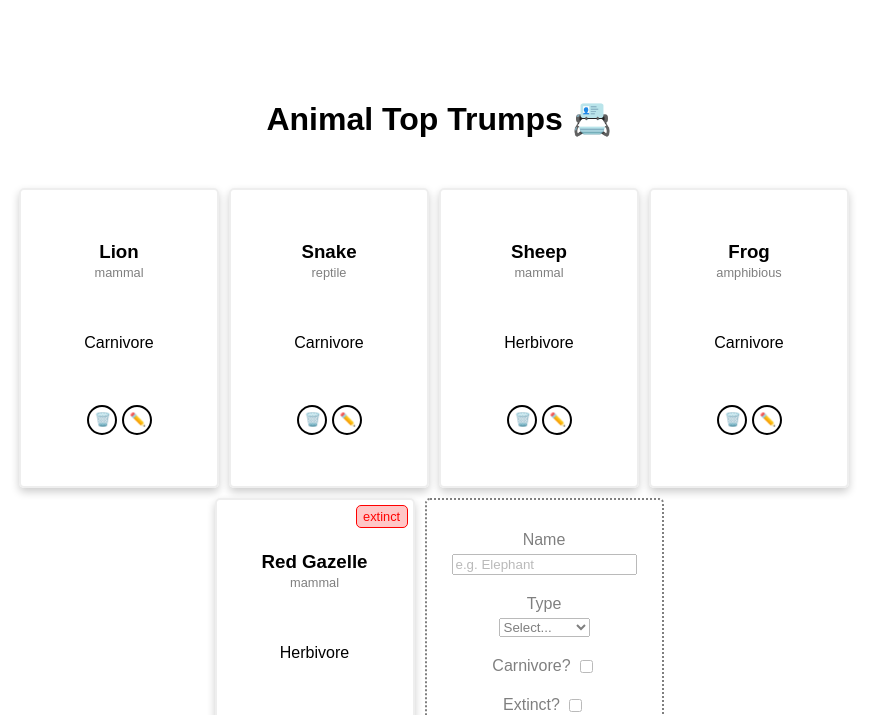
Test: Functionality › adding a card
The width and height of the screenshot is (869, 715).
Type "Zebra" into the field with id "edit-card-name" at (545, 565), box [452, 554, 637, 575]
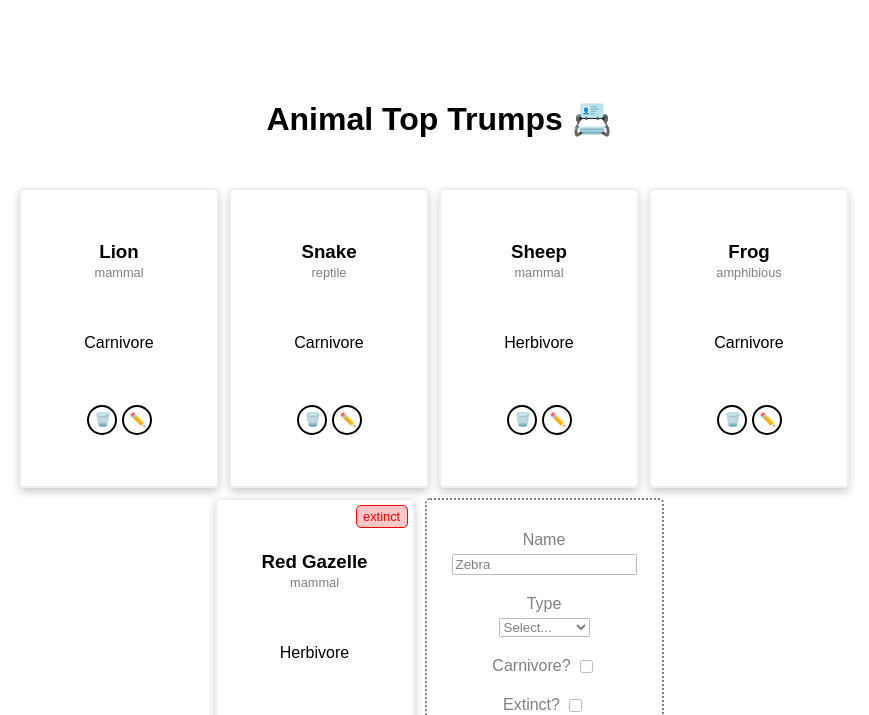
Select "mammal" in the dropdown with id "edit-card-type" at (545, 628), box [499, 618, 590, 637]
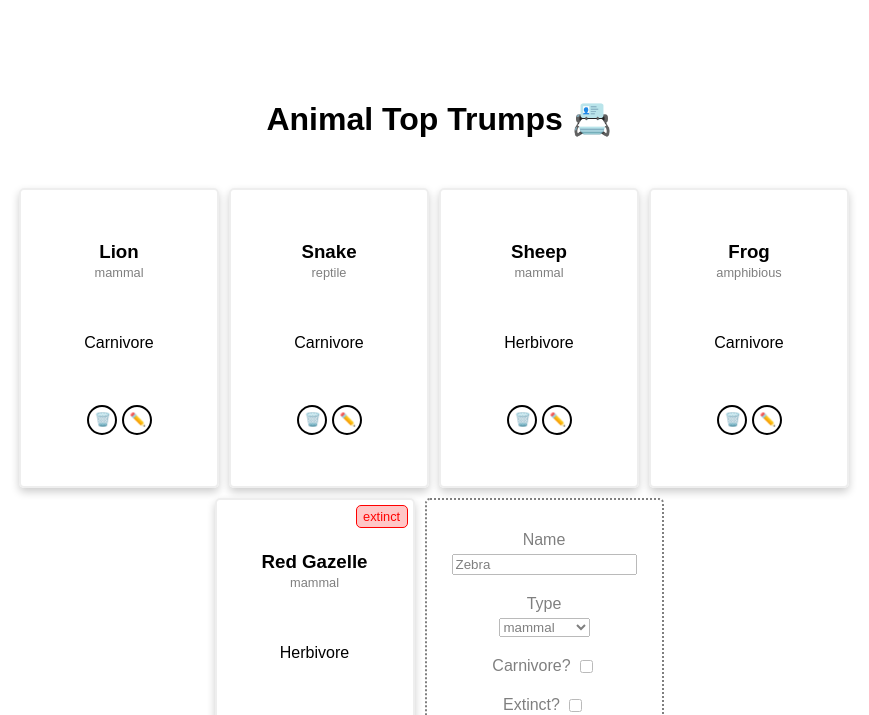
Scroll
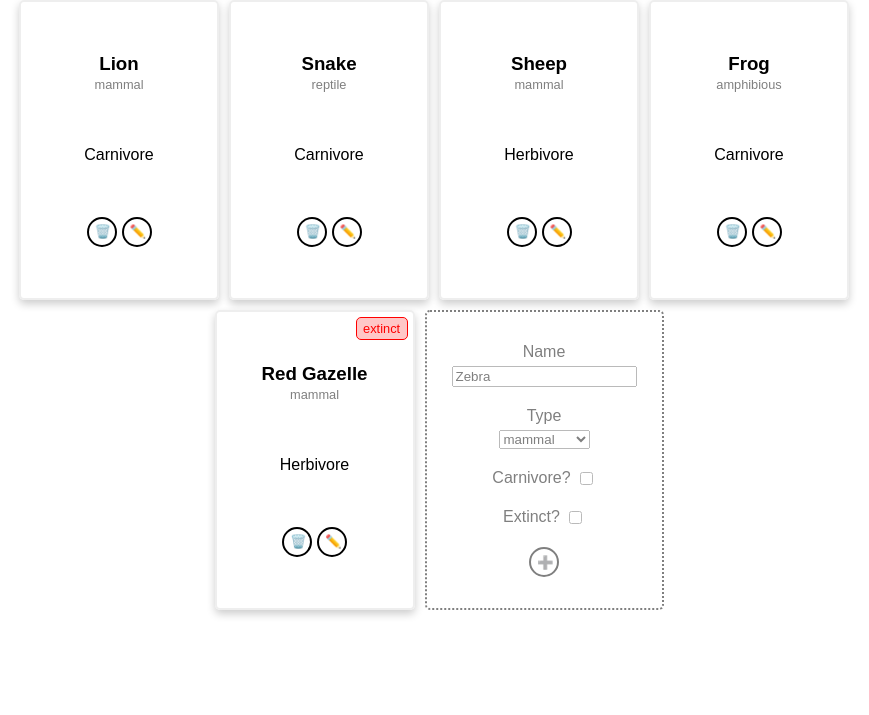
Click the button with class "submit-btn" at (544, 562), box [529, 547, 559, 577]
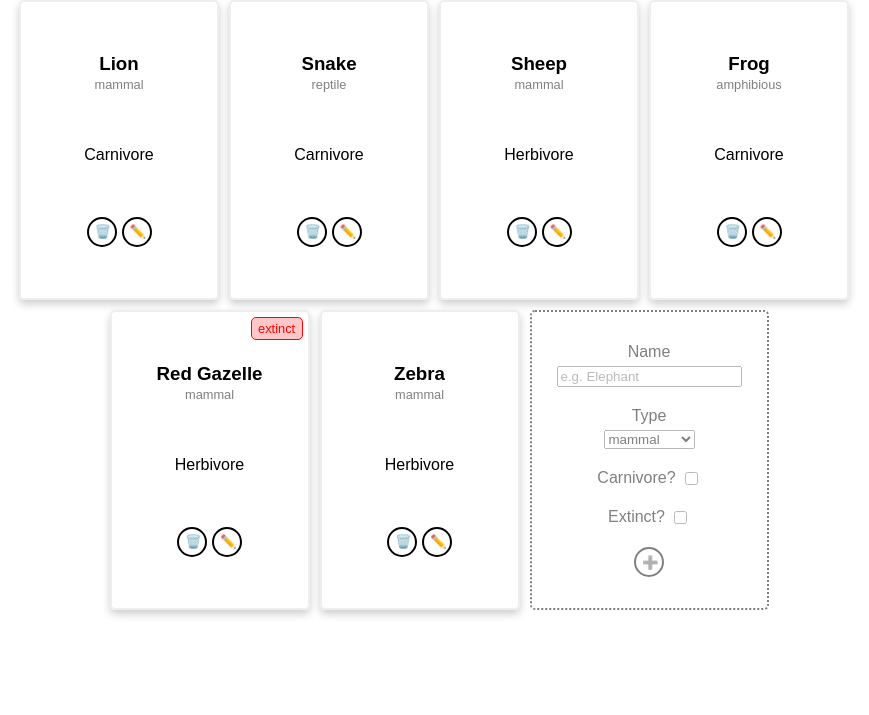
Check: the heading "Zebra" is shown, box [394, 363, 445, 385]
Check: the text "mammal" below "Zebra" is shown, box [395, 387, 444, 402]
Check: the text "Herbivore" below "Zebra" is shown, box [385, 456, 454, 473]
